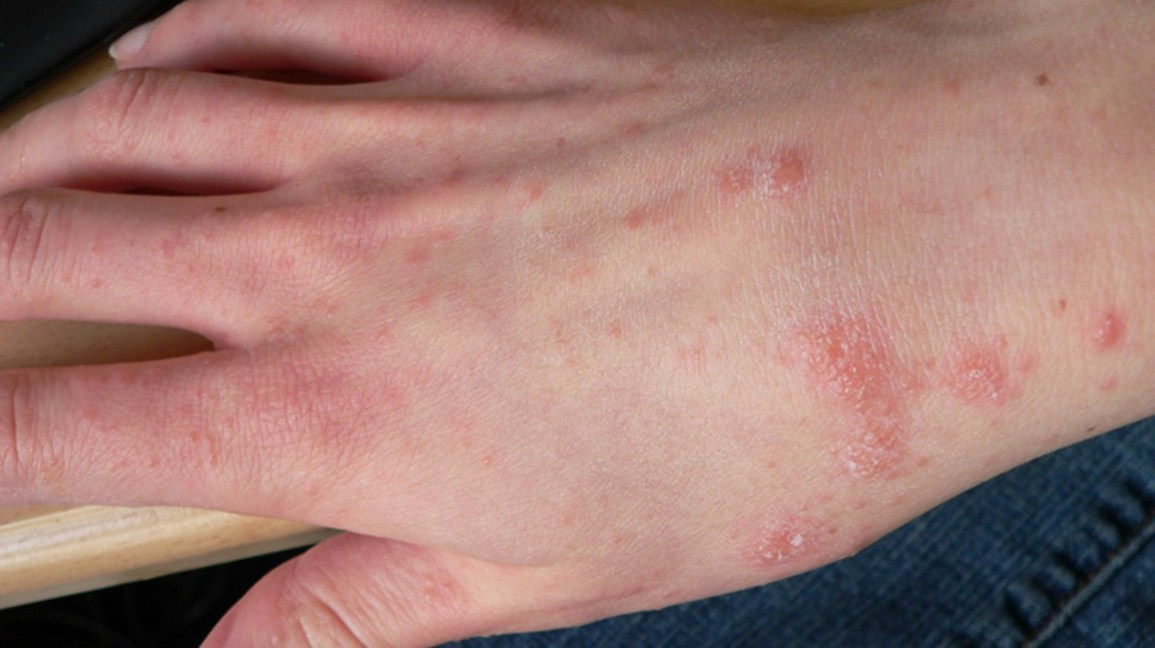Diseased: (272, 82, 1041, 560)
